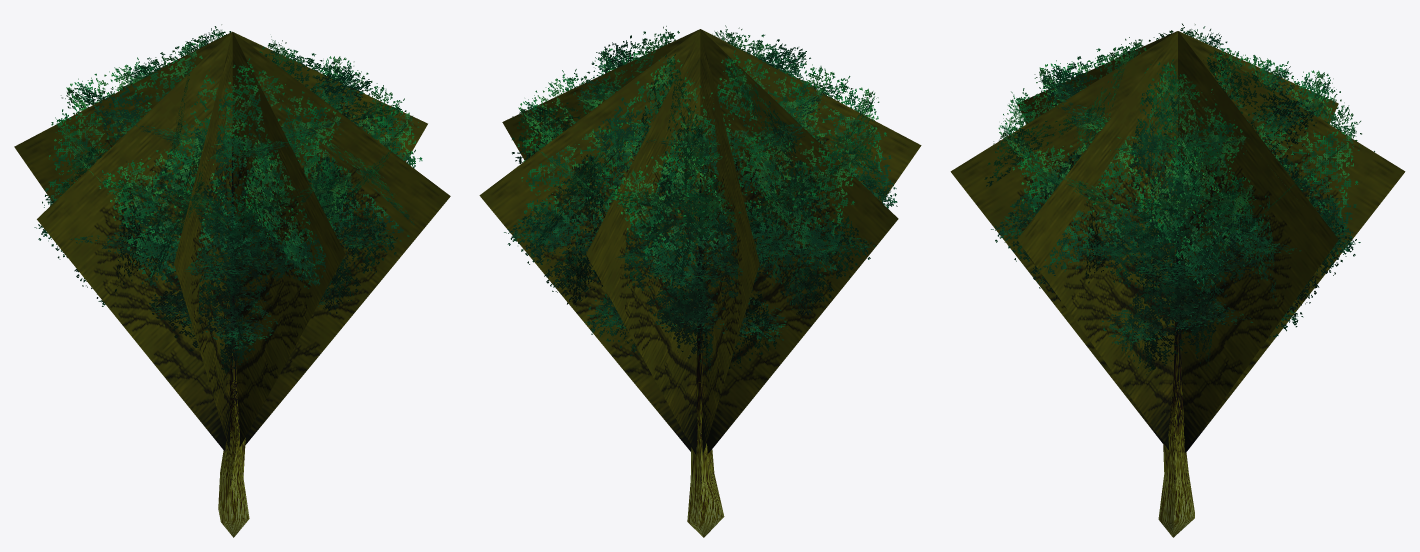
Rendered from beuk_3.fbx.
3 views of the same model, side by side, from view 1: azimuth 30°, elevation 25°; view 2: azimuth 150°, elevation 25°; view 3: azimuth 270°, elevation 25° (orthographic).
Visible parts, largest first — view 1: beuk_3; view 2: beuk_3; view 3: beuk_3.
Part boxes in pixels (bbox=[...]): beuk_3: bbox=[14, 24, 450, 537]; beuk_3: bbox=[479, 25, 921, 537]; beuk_3: bbox=[950, 23, 1405, 537].
Size of the model in its own units: 1713 by 2103 by 1699.
